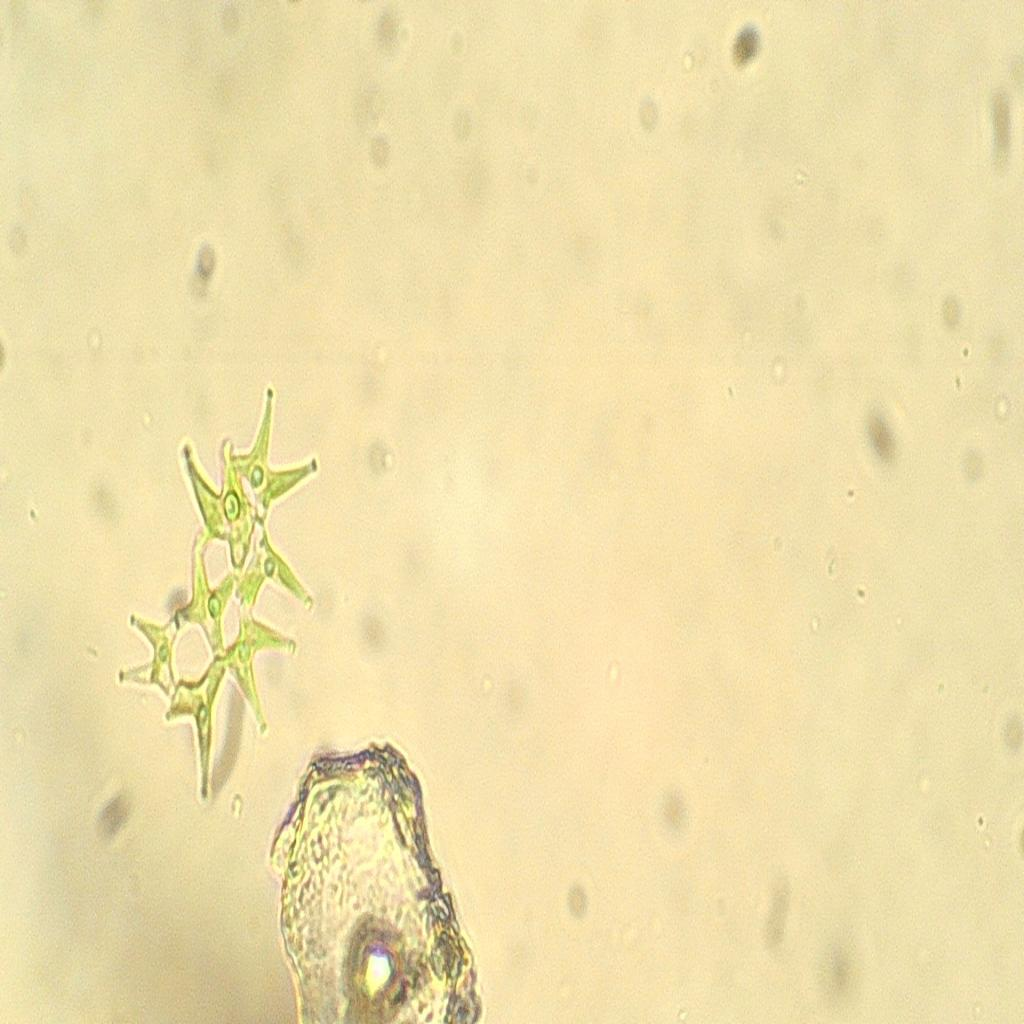Pediastrum_1TH: (95, 362, 333, 824)
